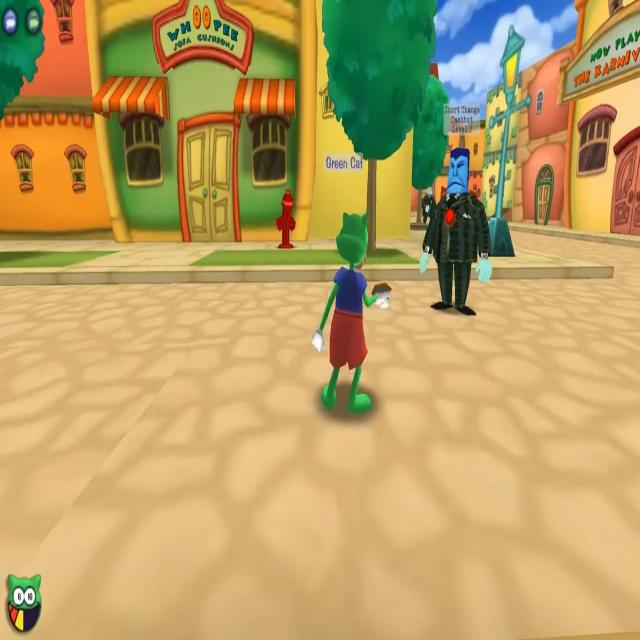shortchange: (416, 100, 492, 317)
